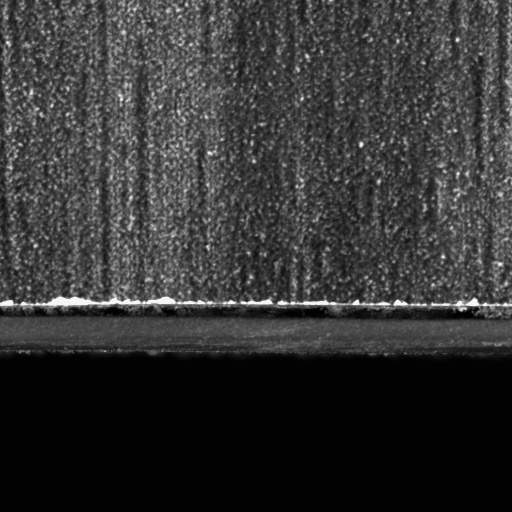kaijiao: (0, 294, 511, 365)
